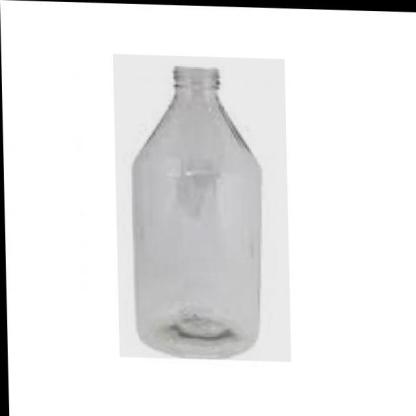Glass Bottle: (127, 58, 267, 360)
